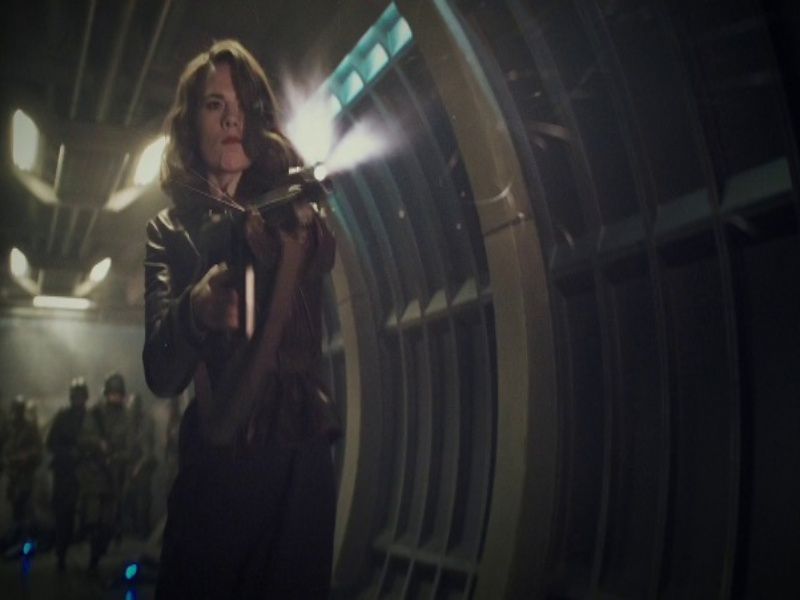person: (141, 41, 338, 596)
weapon: (193, 156, 335, 335)
